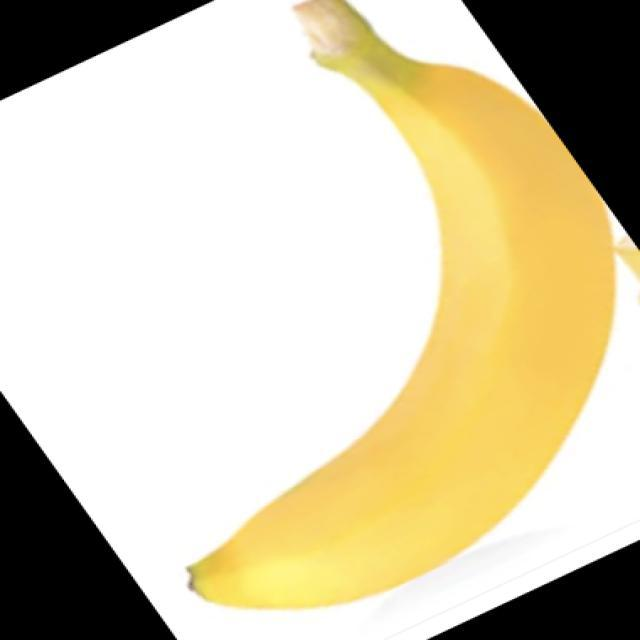Banana: (184, 0, 639, 611)
